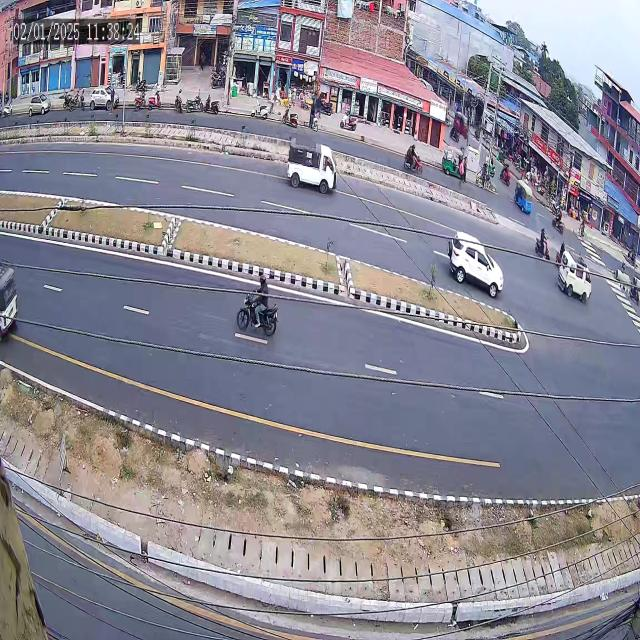auto: (511, 172, 534, 220)
car: (442, 224, 512, 304)
motorcycle: (235, 260, 285, 340), (399, 137, 426, 180), (531, 219, 549, 265)
van: (279, 127, 341, 203), (557, 244, 598, 310)
